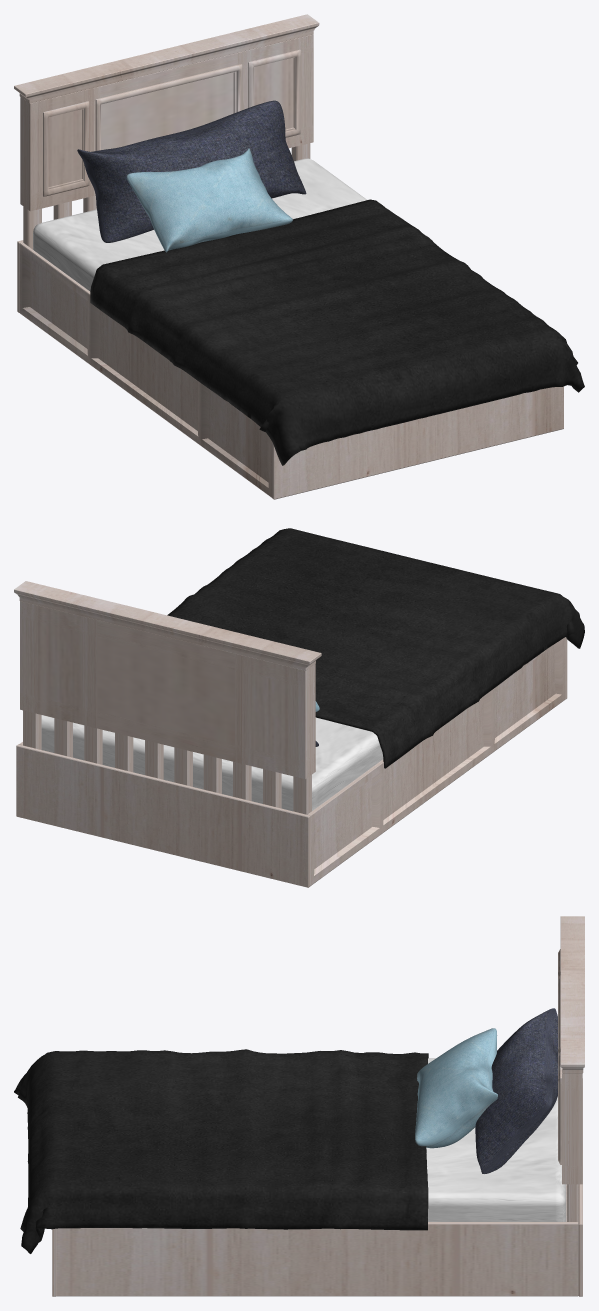
The model's file is bed.fbx.
3 views of the same model, one above another, from view 1: azimuth 30°, elevation 25°; view 2: azimuth 150°, elevation 25°; view 3: azimuth 270°, elevation 25° (orthographic). The views are drawn at different scales.
Parts seen in each view (by area): view 1: bed_room:Plane01, pCube56, pCube60, pCube72, bed_room:Box02, bed_room:Box04, pCube59, pCube57; view 2: bed_room:Plane01, pCube56, pCube73, pCube60, pCube59, pCube57, pCube58, pCube63, pCube66, pCube67, pCube69, pCube71 (+4 smaller); view 3: bed_room:Plane01, pCube61, pCube59, bed_room:Box02, bed_room:Box04, pCube57, pCube56, pCube73.
Part boxes in pixels (x1,y1,x2,y2): bed_room:Plane01: [90, 199, 584, 465]; pCube56: [20, 34, 313, 211]; pCube60: [19, 242, 271, 497]; pCube72: [272, 386, 563, 499]; bed_room:Box02: [77, 100, 306, 242]; bed_room:Box04: [126, 148, 292, 252]; pCube59: [33, 158, 366, 291]; pCube57: [14, 14, 319, 103]; bed_room:Plane01: [167, 528, 584, 768]; pCube56: [20, 601, 315, 779]; pCube73: [16, 744, 310, 887]; pCube60: [307, 637, 565, 885]; pCube59: [41, 715, 383, 811]; pCube57: [14, 581, 321, 670]; pCube58: [293, 775, 311, 814]; pCube63: [263, 769, 281, 808]; pCube66: [174, 747, 192, 786]; pCube67: [145, 740, 163, 779]; pCube69: [84, 725, 102, 764]; pCube71: [54, 718, 72, 757]; bed_room:Plane01: [14, 1049, 428, 1253]; pCube61: [56, 1222, 578, 1296]; pCube59: [426, 1058, 566, 1221]; bed_room:Box02: [475, 1008, 557, 1173]; bed_room:Box04: [415, 1028, 497, 1148]; pCube57: [560, 916, 584, 1073]; pCube56: [558, 949, 582, 1184]; pCube73: [578, 1078, 582, 1296].
Size of the model in its own units: 17.75 by 12.39 by 27.47.
5 materials, 5 textured.
